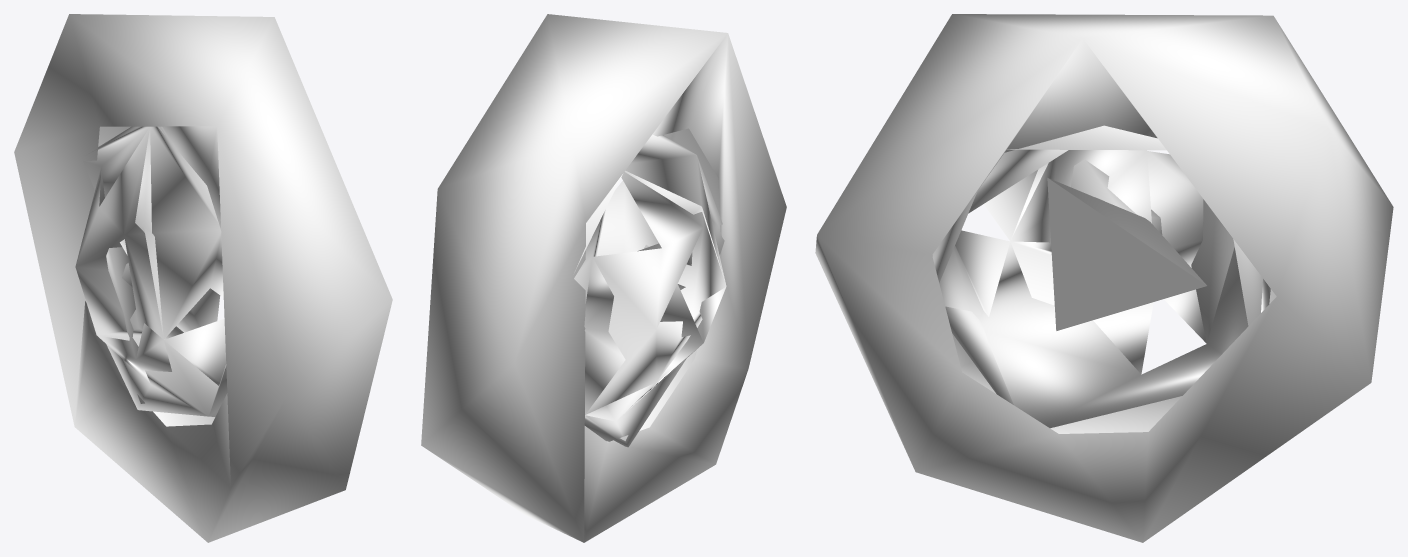
3 views of the same model, side by side, from view 1: azimuth 30°, elevation 25°; view 2: azimuth 150°, elevation 25°; view 3: azimuth 270°, elevation 25° (orthographic). The views are drawn at different scales.
Size of the model in its own units: 0.3474 by 1.03 by 1.06.
Materials: 1 (1 with a texture image).
